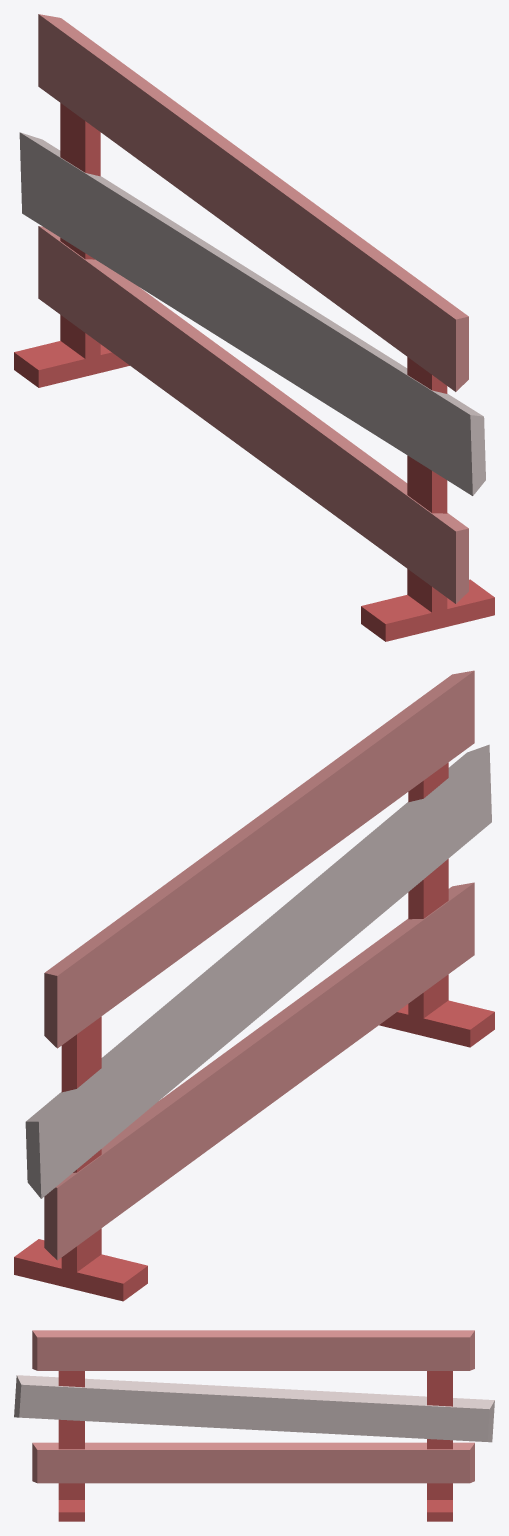
File: valla3.fbx
3 renders of one model, top to bottom at view 1: azimuth 30°, elevation 25°; view 2: azimuth 150°, elevation 25°; view 3: azimuth 270°, elevation 25°, orthographic. The views are drawn at different scales.
Visible parts, largest first — view 1: pCube9, pCube11, pCube10, pCube8, pCube7; view 2: pCube9, pCube11, pCube10, pCube7, pCube8; view 3: pCube9, pCube10, pCube11, pCube8, pCube7.
Boxes of the visible parts, x1=… form: pCube9: x1=19, y1=132, x2=485, y2=495; pCube11: x1=38, y1=14, x2=468, y2=391; pCube10: x1=38, y1=226, x2=468, y2=603; pCube8: x1=361, y1=357, x2=494, y2=641; pCube7: x1=14, y1=103, x2=129, y2=387; pCube9: x1=25, y1=744, x2=491, y2=1198; pCube11: x1=44, y1=670, x2=474, y2=1048; pCube10: x1=44, y1=882, x2=474, y2=1260; pCube7: x1=14, y1=1016, x2=147, y2=1301; pCube8: x1=379, y1=762, x2=494, y2=1047; pCube9: x1=14, y1=1375, x2=494, y2=1442; pCube10: x1=32, y1=1442, x2=474, y2=1483; pCube11: x1=32, y1=1330, x2=474, y2=1370; pCube8: x1=58, y1=1371, x2=84, y2=1521; pCube7: x1=427, y1=1371, x2=452, y2=1521.
Bounding box in the file's own units: 0.732 × 2.11 × 5.25.
